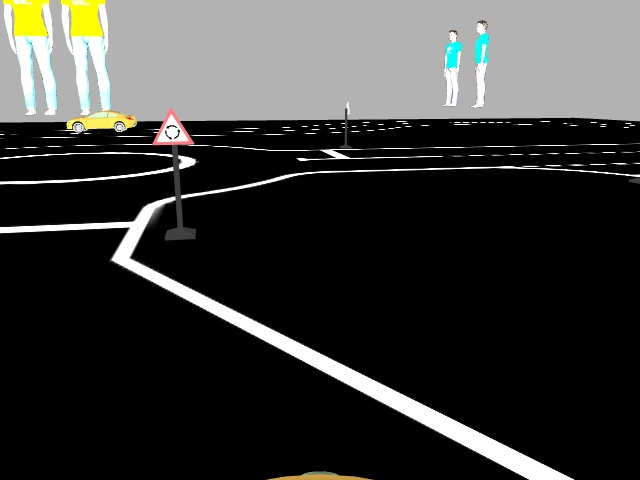Roundabout: (149, 107, 195, 144)
